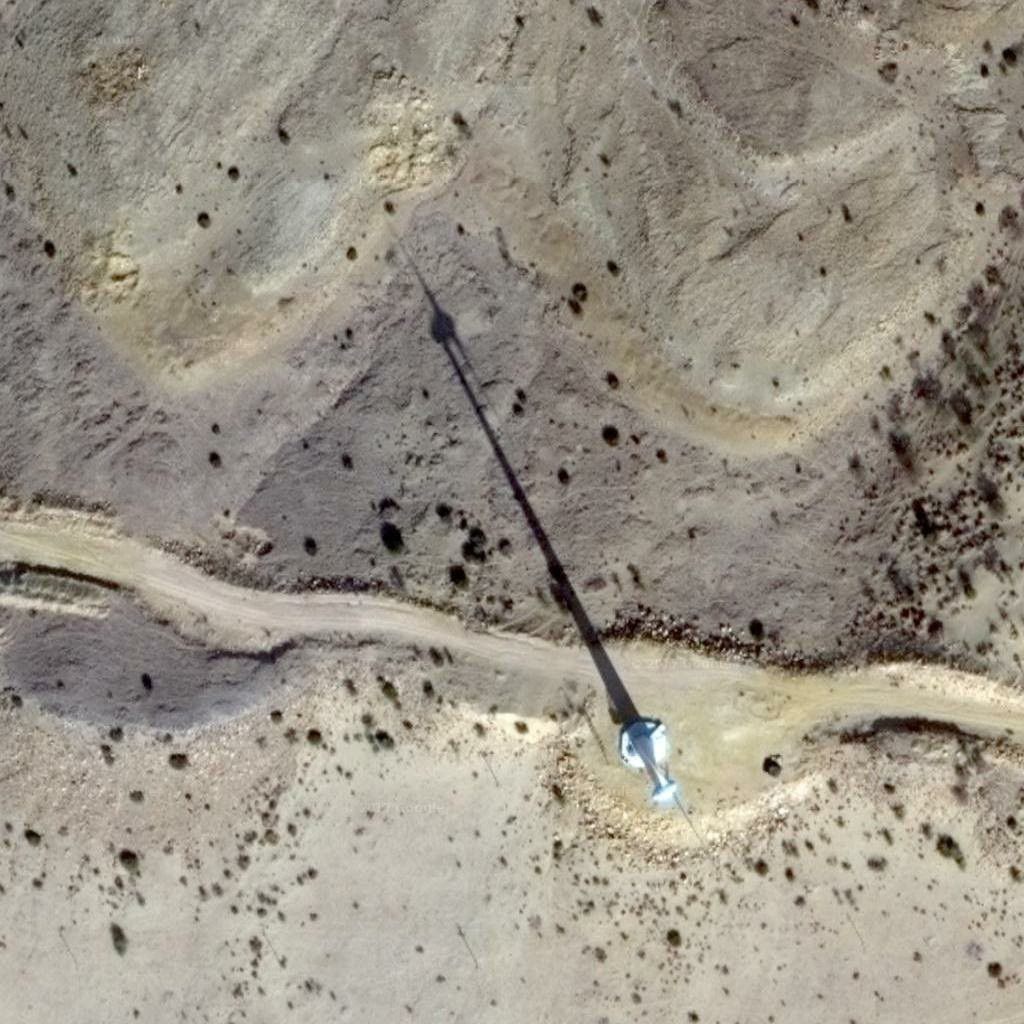Windmill: (394, 235, 642, 704)
